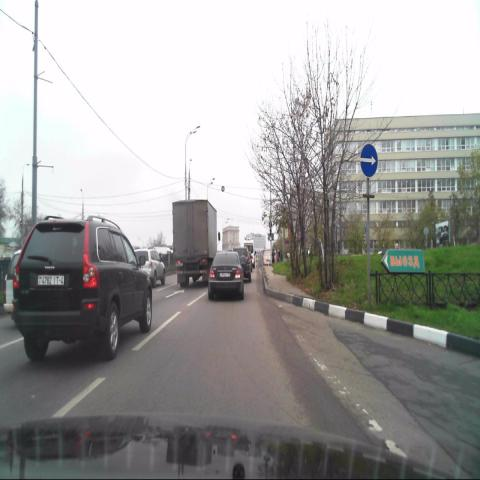4_1_2_1: (360, 143, 378, 177)
